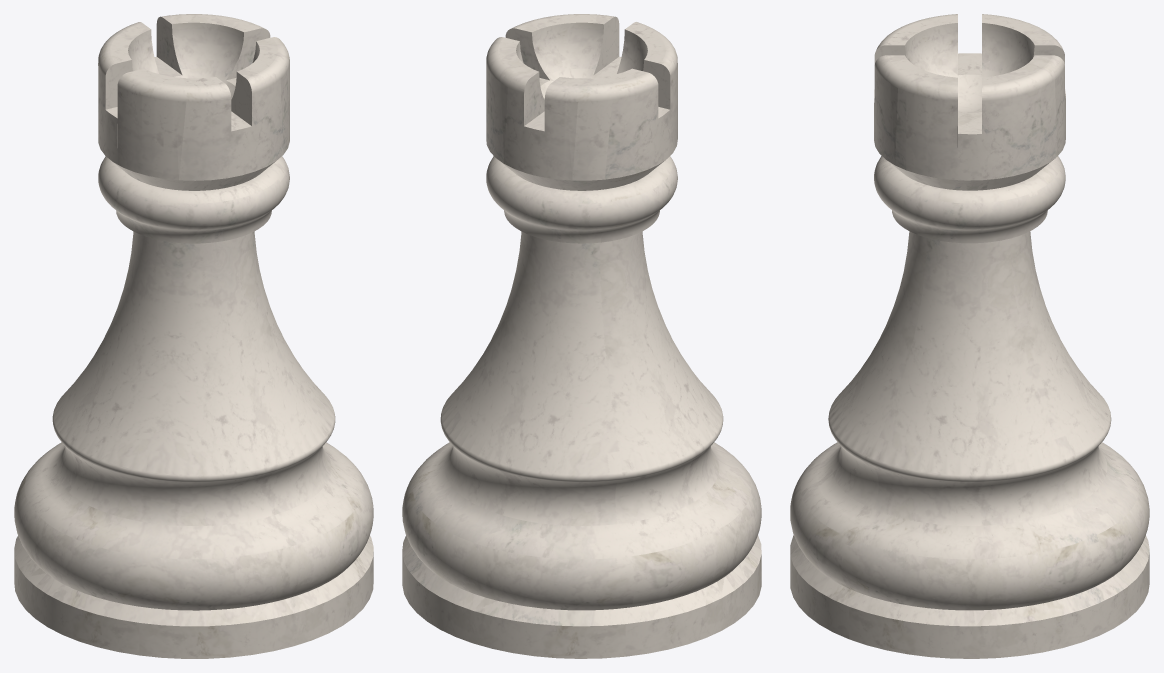
Rendered from White-Rook.glb.
The picture shows the model from 3 angles, left to right: view 1: azimuth 30°, elevation 25°; view 2: azimuth 150°, elevation 25°; view 3: azimuth 270°, elevation 25°; orthographic projection.
Visible parts, largest first — view 1: ASSET_Joined; view 2: ASSET_Joined; view 3: ASSET_Joined.
Boxes of the visible parts, box(x1,y1,x2,y2) form: ASSET_Joined: box(14, 14, 373, 658); ASSET_Joined: box(402, 14, 761, 658); ASSET_Joined: box(790, 14, 1149, 658).
Bounding box in the file's own units: 36.72 × 60 × 36.71.
1 material, 1 textured.
